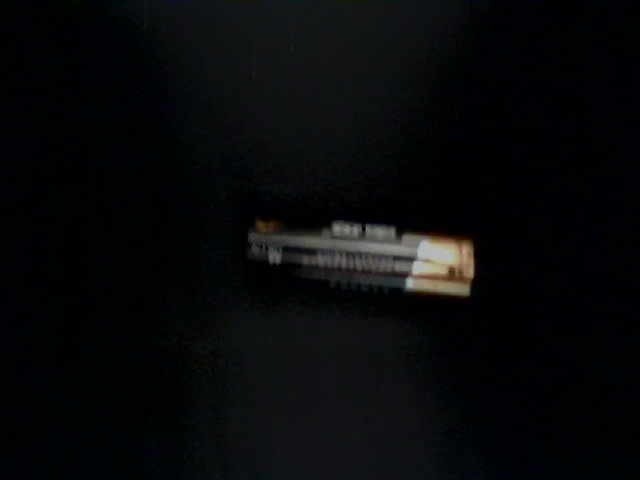YHLJ: (11, 262, 288, 418)
